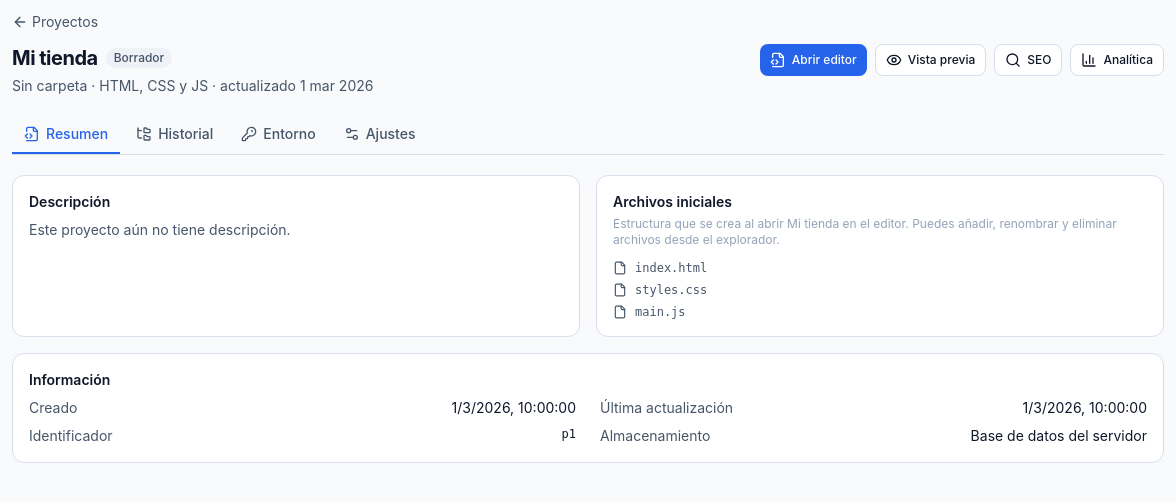
Test: ProjectDetailPage · pestaña Entorno › las demás pestañas siguen funcionando
This screenshot has width=1176, height=502.
Expected: the heading "Mi tienda" is shown, [12,44,98,72]
Click the tab "Historial". click: coordinates (175, 135)
box: [124,116,225,154]
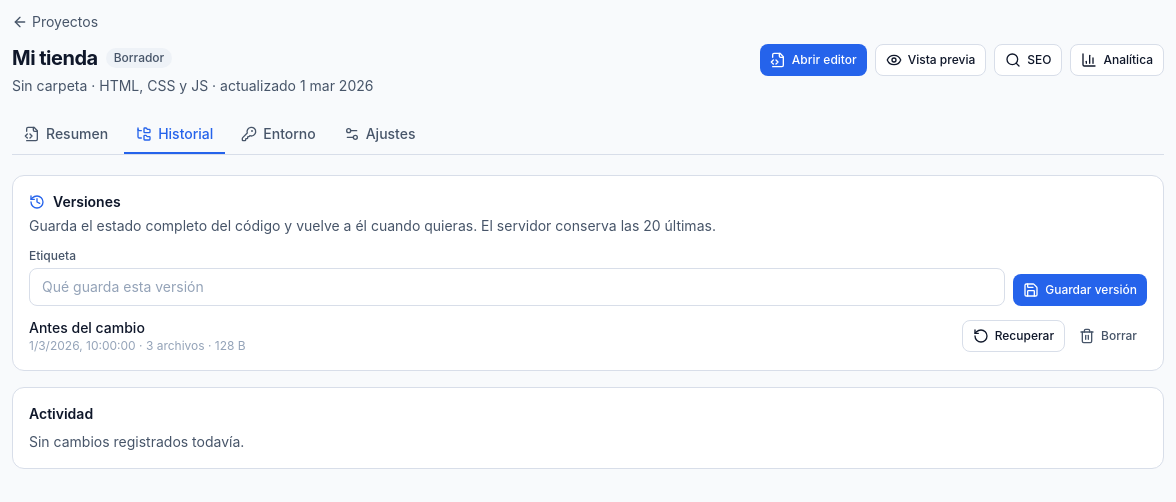
Expected: the heading "Versiones" is shown, [29,193,121,210]
Click the tab "Ajustes". click: coordinates (380, 135)
box: [332,116,428,154]
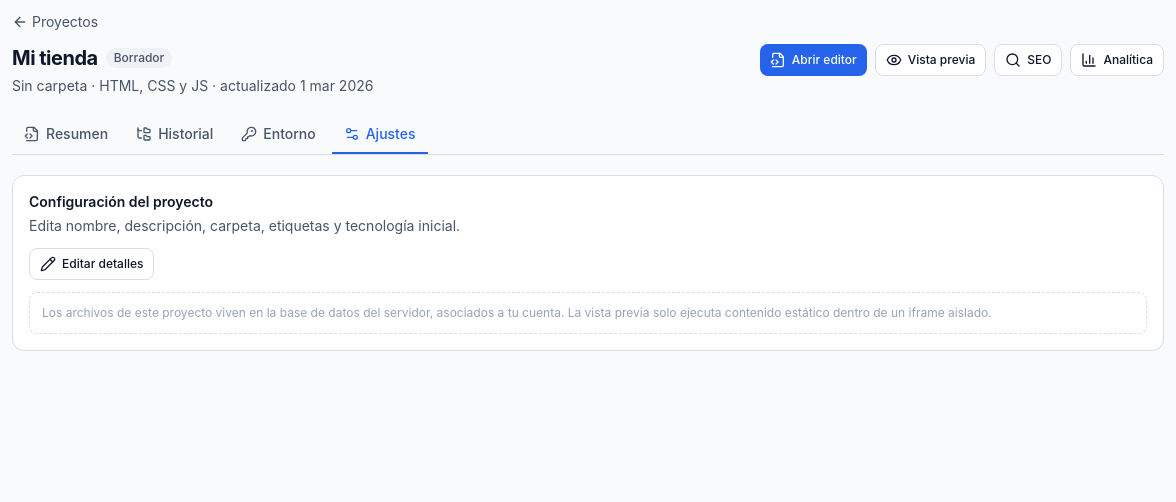
Expected: the heading "Configuración del proyecto" is shown, [29,193,213,210]
Click the tab "Entorno". click: coordinates (278, 135)
box: [229,116,328,154]
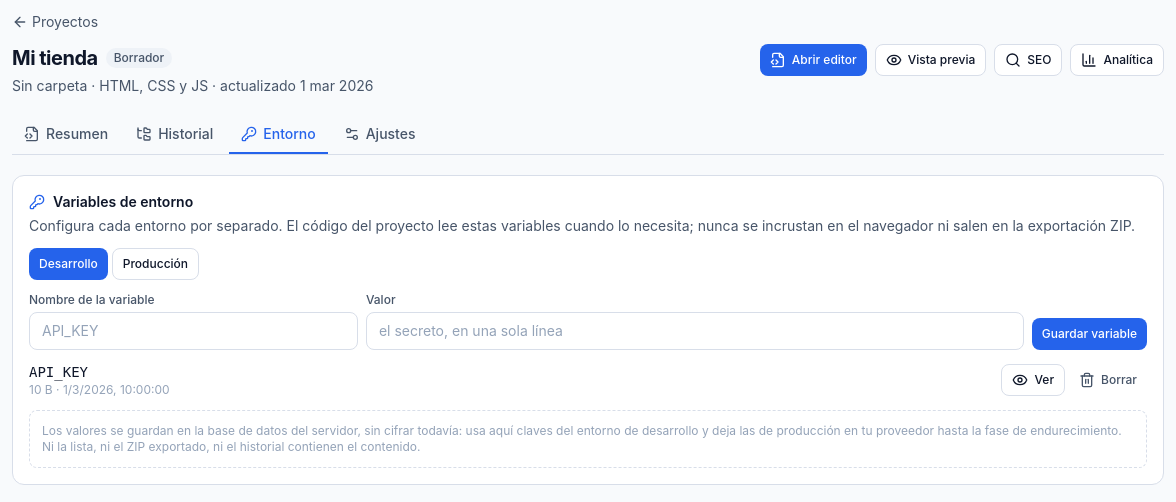
Expected: the heading "Variables de entorno" is shown, [29,193,193,210]
